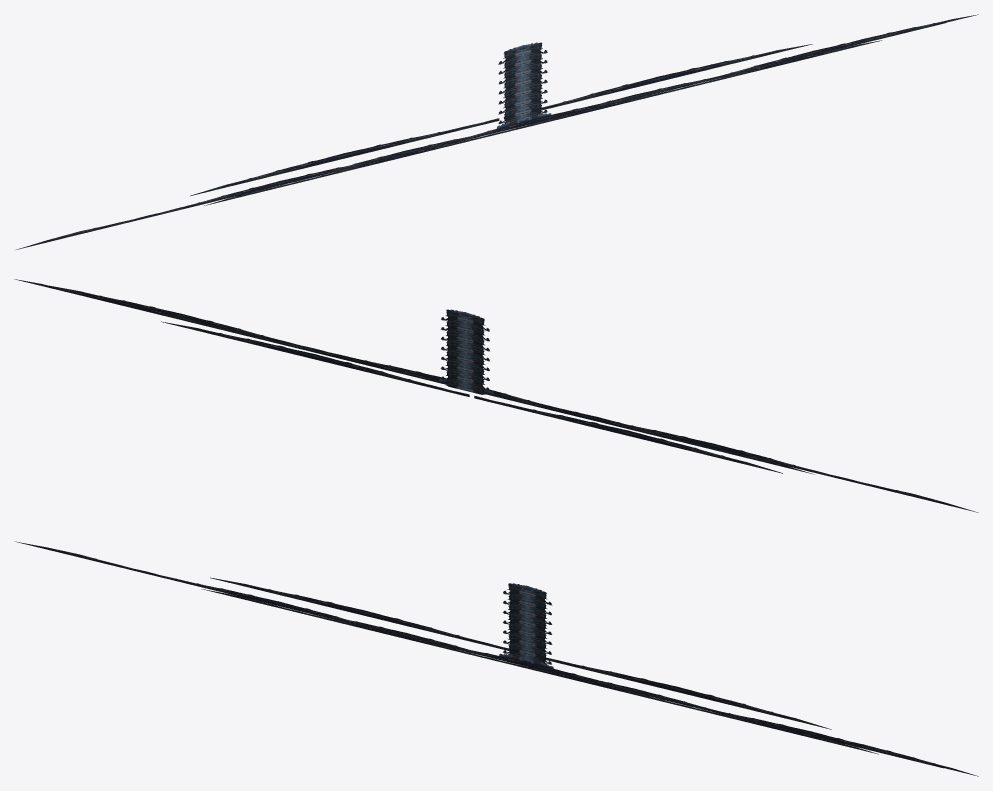
File: Tower_Water.fbx
3 renders of one model, top to bottom at view 1: azimuth 30°, elevation 25°; view 2: azimuth 150°, elevation 25°; view 3: azimuth 330°, elevation 25°, orthographic.
Visible parts, largest first — view 1: tower_dark_base, tower_dark, tower_dark_base03, tower_dark_base02; view 2: tower_dark_base, tower_dark, tower_dark_base02; view 3: tower_dark_base, tower_dark, tower_dark_base03, tower_dark_base02.
Part boxes in pixels (x1=…): tower_dark_base: x1=16, y1=22, x2=945, y2=249; tower_dark: x1=498, y1=42, x2=547, y2=124; tower_dark_base03: x1=204, y1=40, x2=881, y2=205; tower_dark_base02: x1=351, y1=14, x2=978, y2=165; tower_dark_base: x1=51, y1=286, x2=978, y2=512; tower_dark: x1=440, y1=309, x2=489, y2=394; tower_dark_base02: x1=14, y1=279, x2=814, y2=474; tower_dark_base: x1=14, y1=541, x2=943, y2=768; tower_dark: x1=503, y1=583, x2=552, y2=664; tower_dark_base03: x1=201, y1=589, x2=878, y2=754; tower_dark_base02: x1=351, y1=620, x2=978, y2=776.
Bounding box in the file's own units: 150 × 11.82 × 2.93.
1 material, 1 textured.
